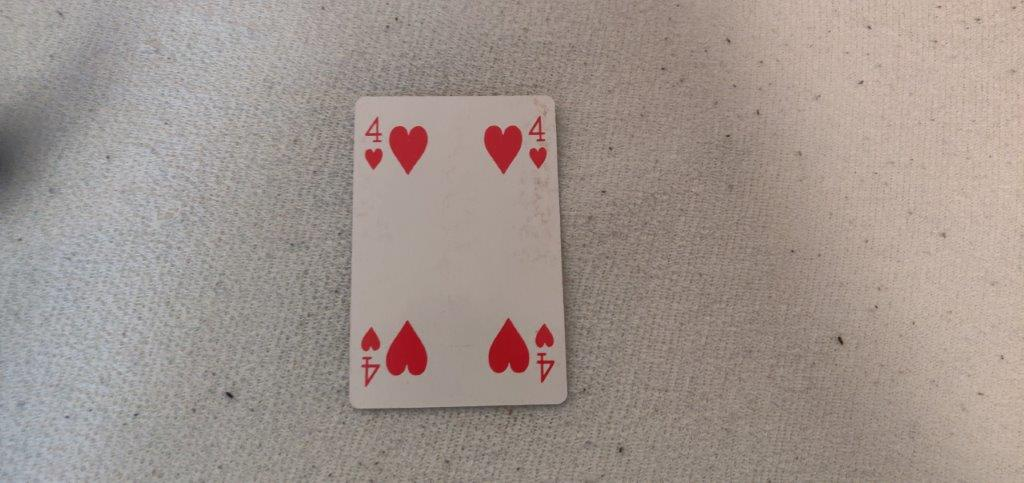4H: (360, 110, 387, 173), (527, 113, 552, 176)
